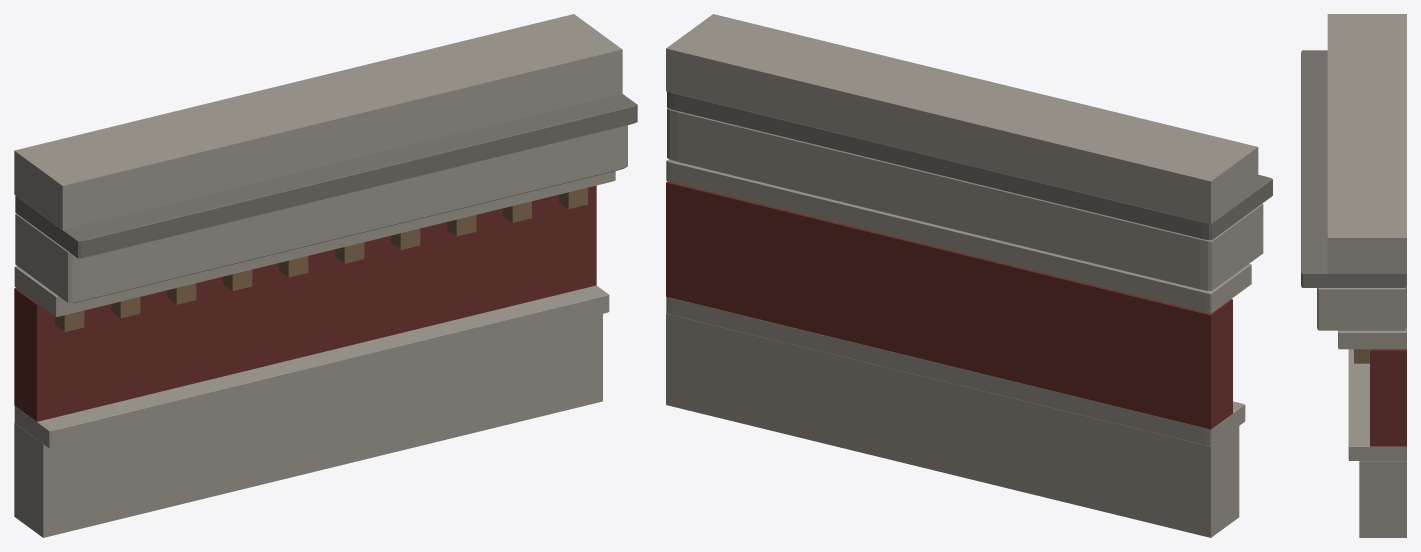
Rendered from arch_entab.glb.
3 views of the same model, side by side, from view 1: azimuth 30°, elevation 25°; view 2: azimuth 150°, elevation 25°; view 3: azimuth 270°, elevation 25° (orthographic). The views are drawn at different scales.
Visible parts, largest first — view 1: arch_entab; view 2: arch_entab; view 3: arch_entab.
Boxes of the visible parts, x1=… form: arch_entab: x1=14, y1=14, x2=637, y2=537; arch_entab: x1=666, y1=14, x2=1272, y2=537; arch_entab: x1=1301, y1=14, x2=1406, y2=537.
Bounding box in the file's own units: 2 × 1.25 × 0.4.
